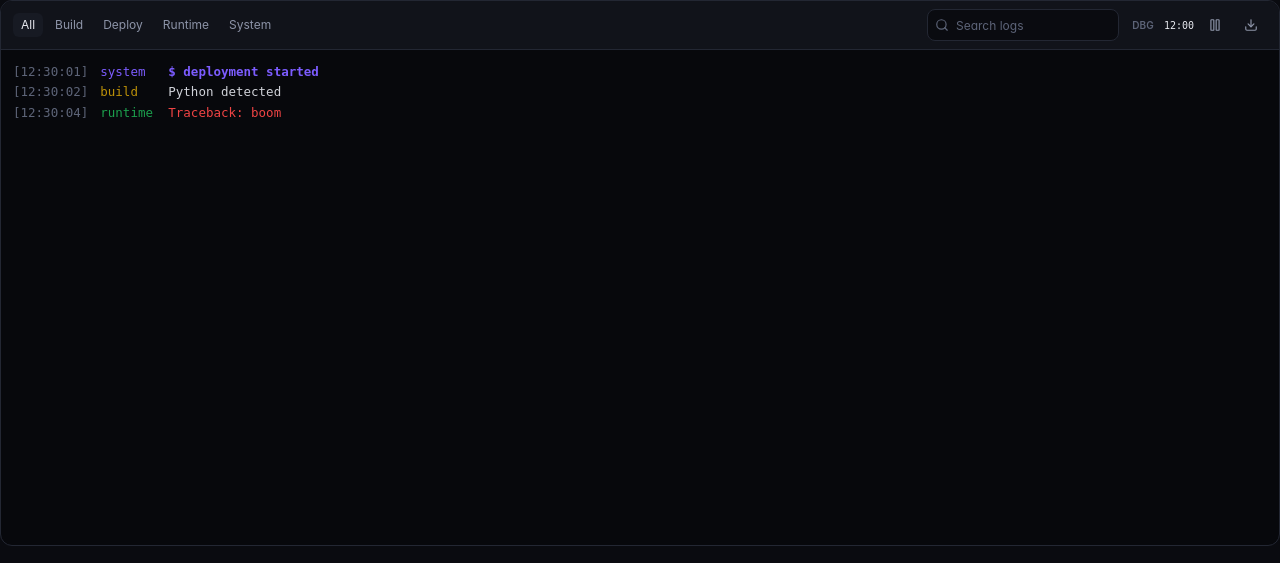
Test: LogViewer › toggles timestamps and auto-scroll
Click the button named "Hide timestamps". click: (1179, 25)
box: [1163,9,1195,41]
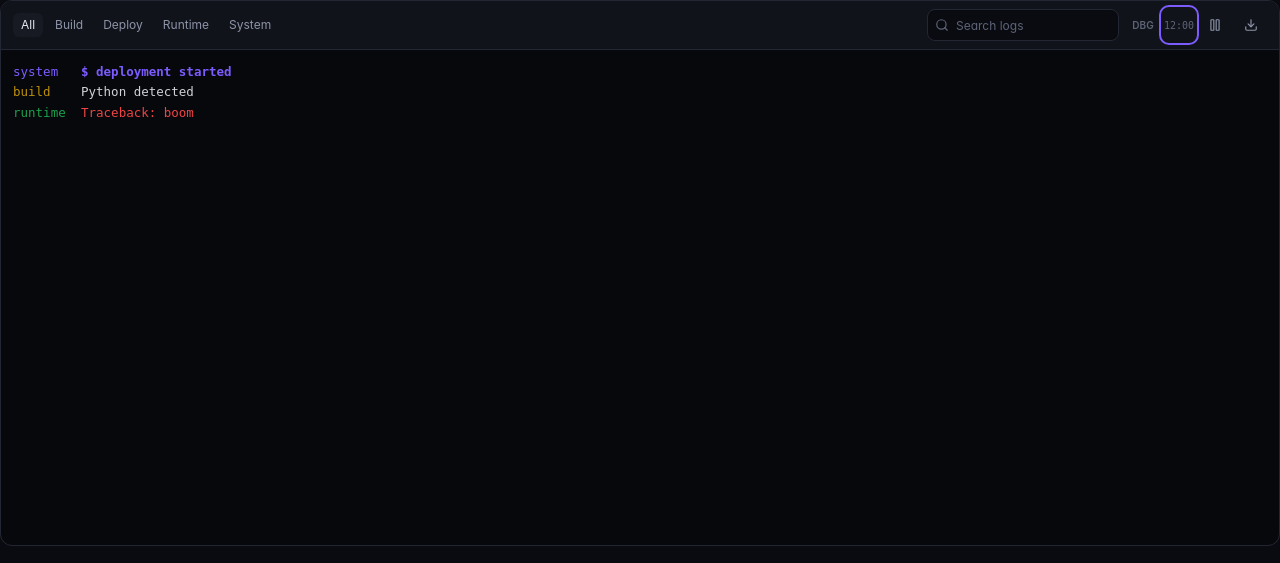
Click the button named "Pause auto-scroll". click: (1215, 25)
box: [1199,9,1231,41]
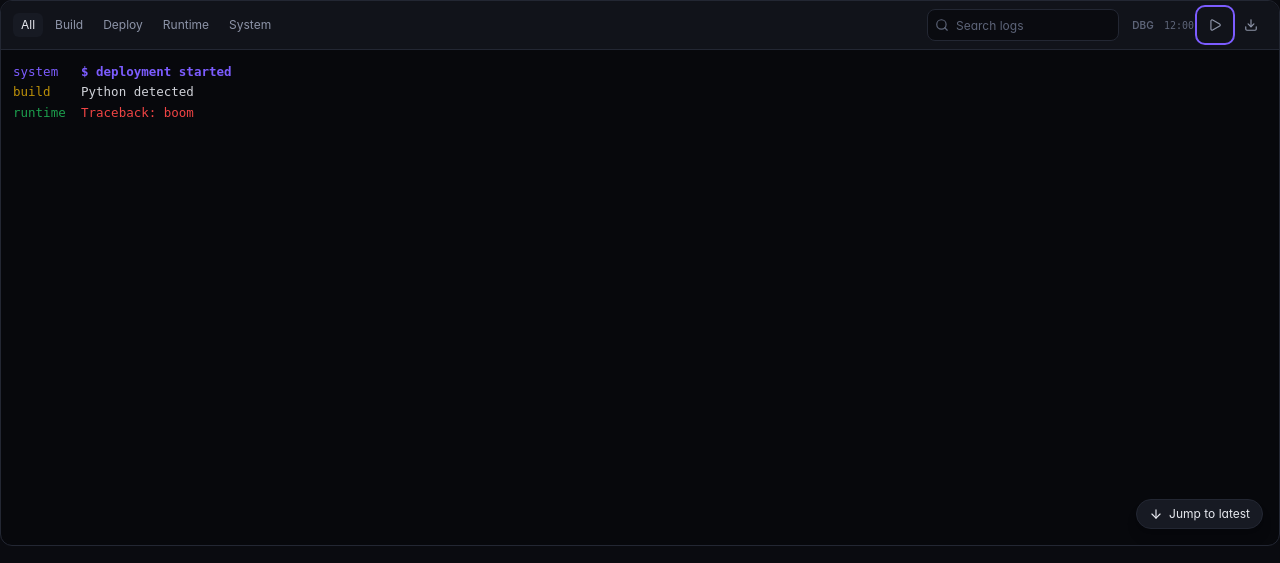
Check: the button named "Resume auto-scroll" is shown, box [1199,9,1231,41]
Check: the button "Jump to latest" is shown, box [1136,499,1263,529]
